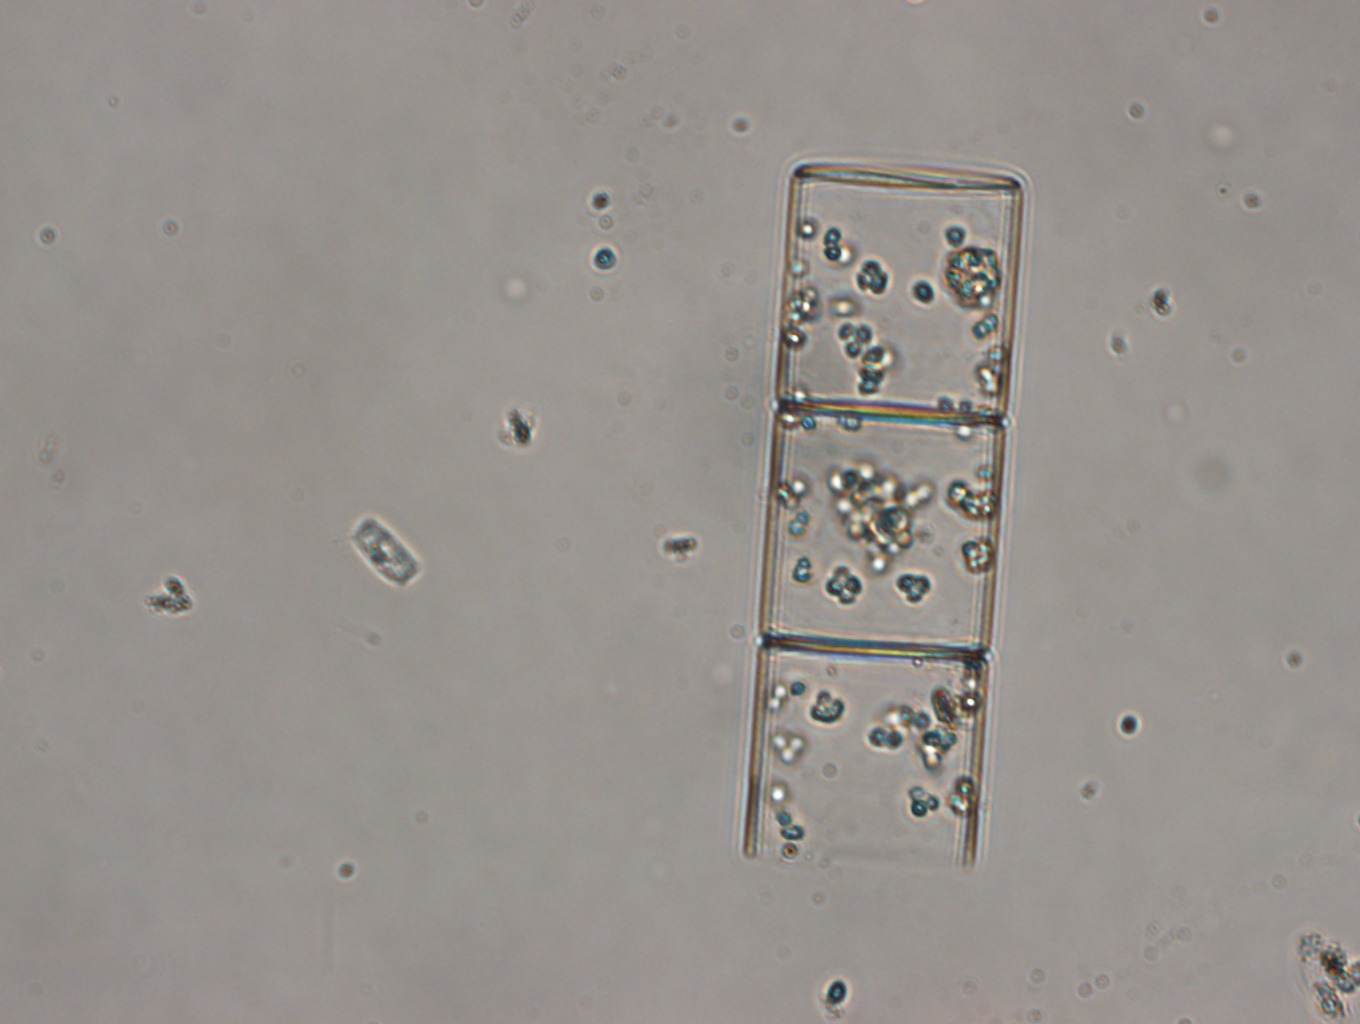guinardia flaccida: (740, 151, 1028, 873)
